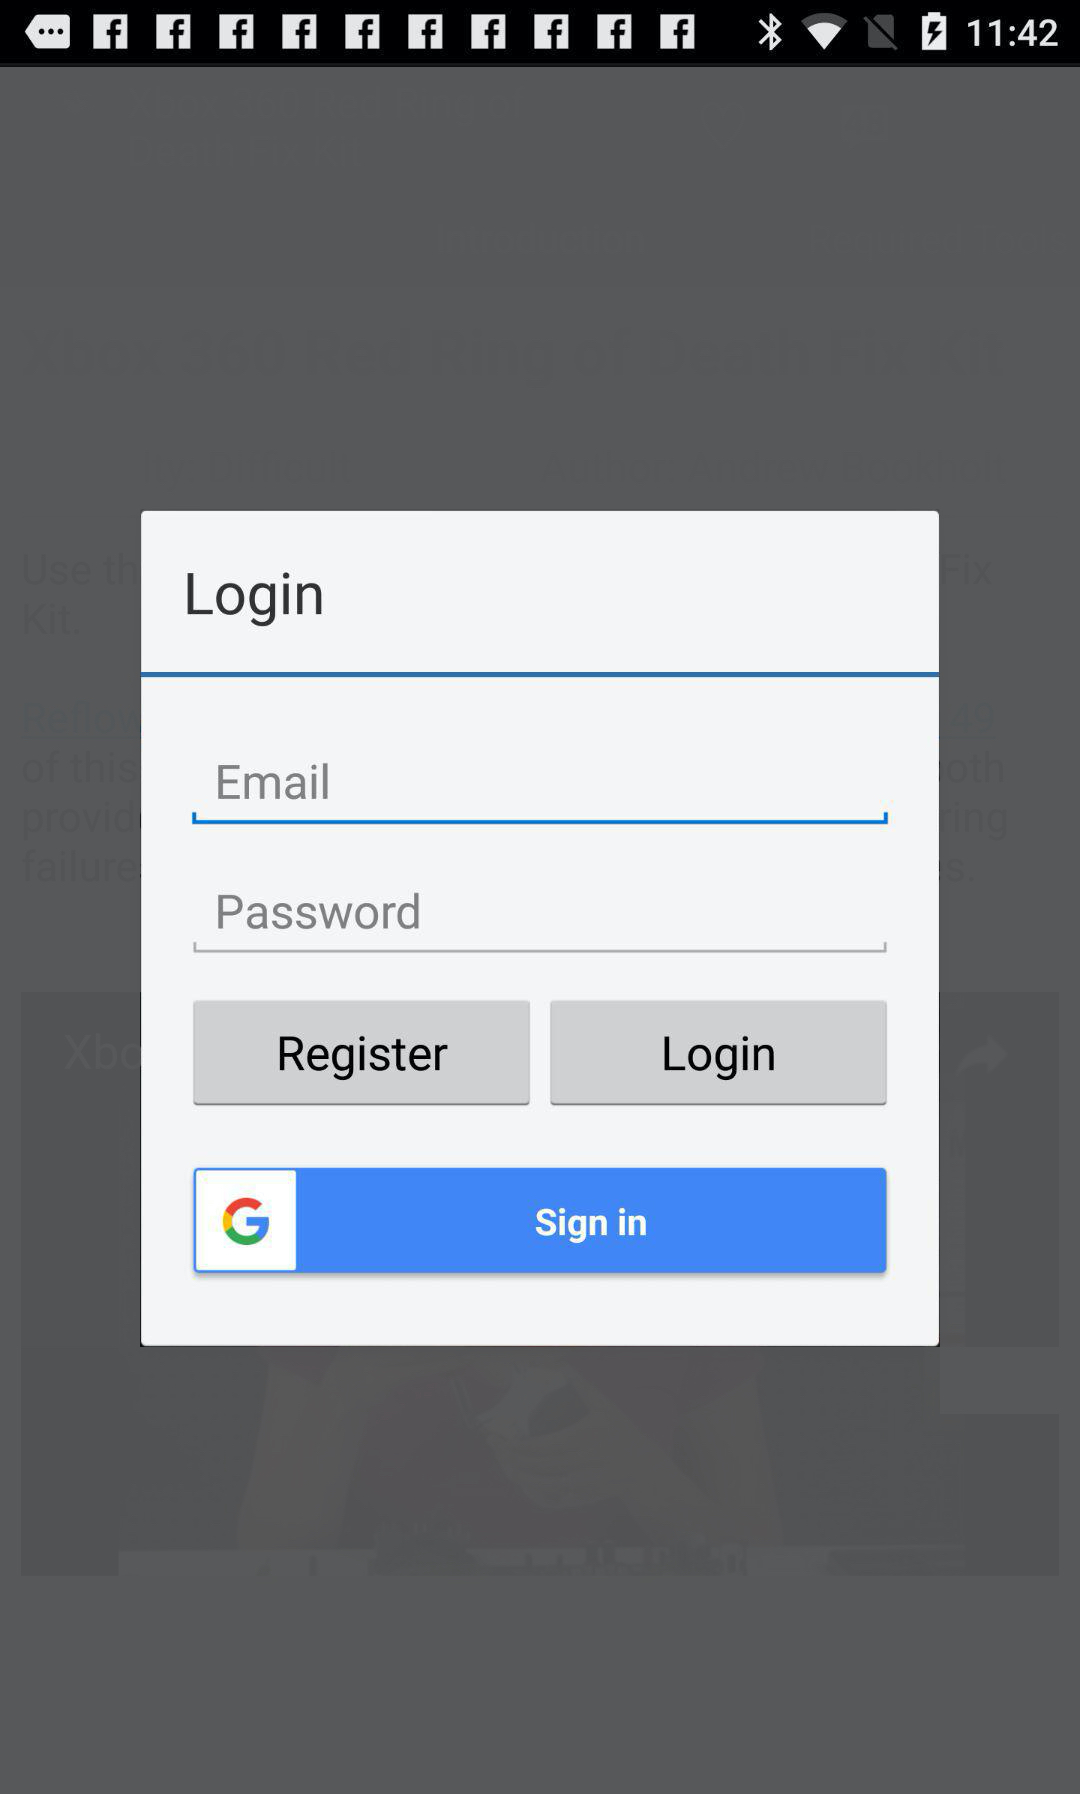EditText: (192, 762, 889, 827), (193, 892, 889, 953)
Modal: (141, 511, 940, 1347)
Text: (218, 892, 421, 932), (187, 572, 323, 628), (218, 762, 331, 802)
TextButton: (193, 1167, 888, 1274), (550, 1000, 888, 1107), (193, 1000, 530, 1107)
UpperTaskBar: (1, 1, 1080, 64)
